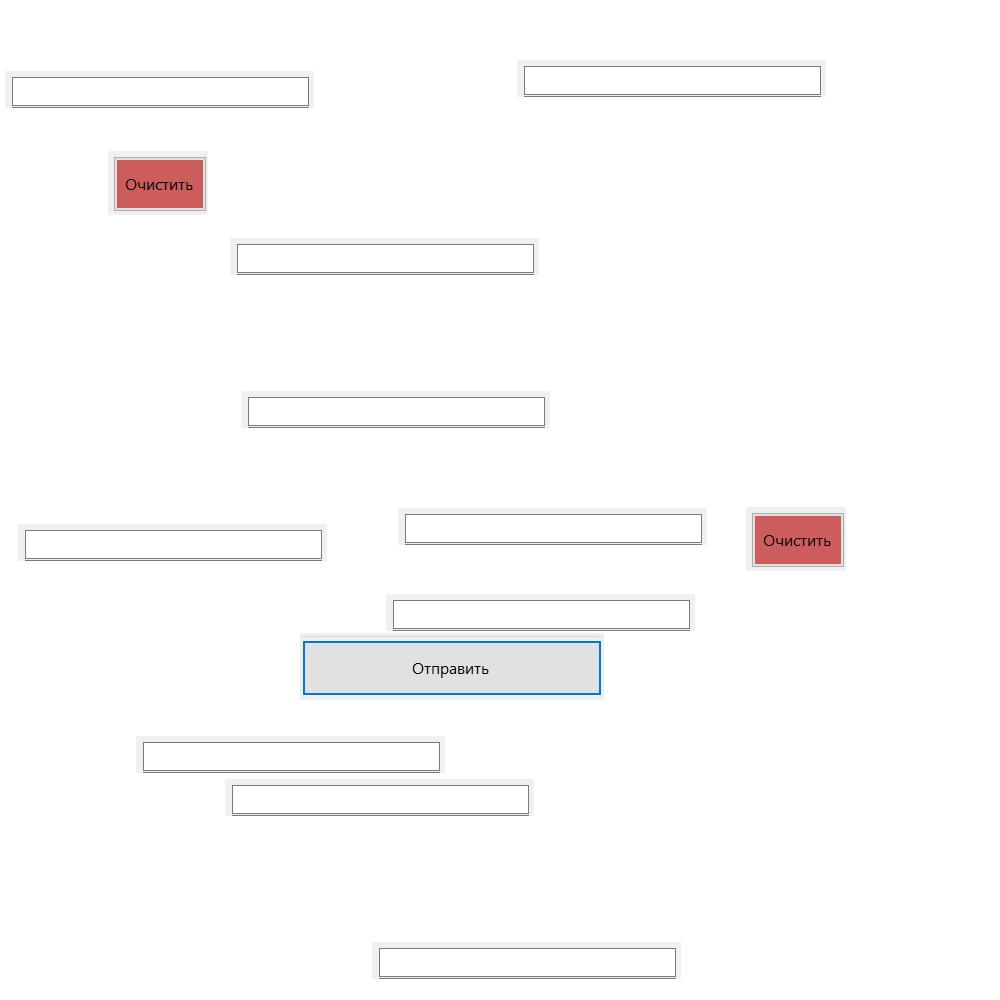Button: (300, 633, 604, 700), (746, 507, 846, 571), (108, 151, 208, 215)
EditText-: (5, 71, 314, 108), (517, 60, 826, 97), (386, 594, 695, 631), (136, 736, 445, 773), (225, 779, 534, 816), (241, 391, 550, 428), (372, 942, 681, 979), (398, 508, 707, 545), (18, 524, 327, 561), (230, 238, 539, 275)
